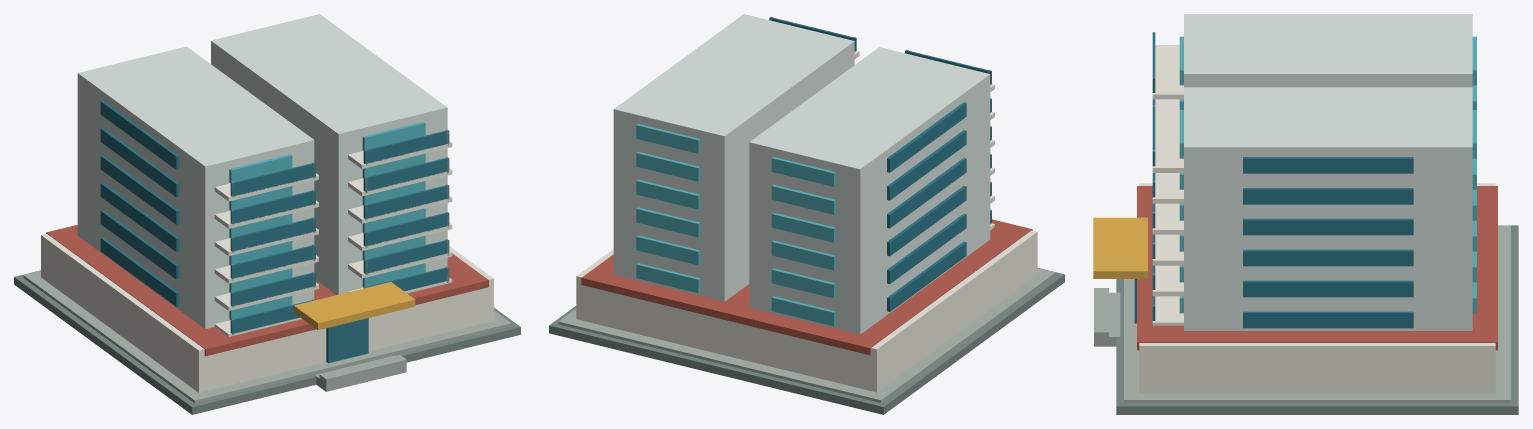
Rendered from apartment_lv1.glb.
3 views of the same model, side by side, from view 1: azimuth 30°, elevation 25°; view 2: azimuth 150°, elevation 25°; view 3: azimuth 270°, elevation 25° (orthographic). The views are drawn at different scales.
Visible parts, largest first — view 1: white, glassDark, ivory, glass, concrete, brick, pavement, gold, steel; view 2: white, ivory, glass, brick, glassDark, pavement, concrete; view 3: white, ivory, glassDark, brick, concrete, pavement, gold, glass.
Part boxes in pixels (x1,y1,x2,y2): white: (77,14,447,328); glassDark: (100,100,449,363); ivory: (41,141,493,392); glass: (229,122,425,319); concrete: (23,271,511,403); brick: (46,225,488,356); pavement: (14,270,520,414); gold: (294,282,415,330); steel: (231,129,448,335); white: (613,14,990,334); ivory: (576,51,1037,392); glass: (636,124,835,326); brick: (581,219,1032,355); glassDark: (769,17,991,311); pavement: (549,268,1064,414); concrete: (558,268,1055,402); white: (1184,14,1472,330); ivory: (1139,45,1495,393); glassDark: (1134,33,1413,328); brick: (1137,186,1497,350); concrete: (1094,225,1510,402); pavement: (1116,225,1518,414); gold: (1093,217,1147,278); glass: (1179,36,1476,313).
Size of the model in its own units: 9.8 by 6.15 by 9.72.
